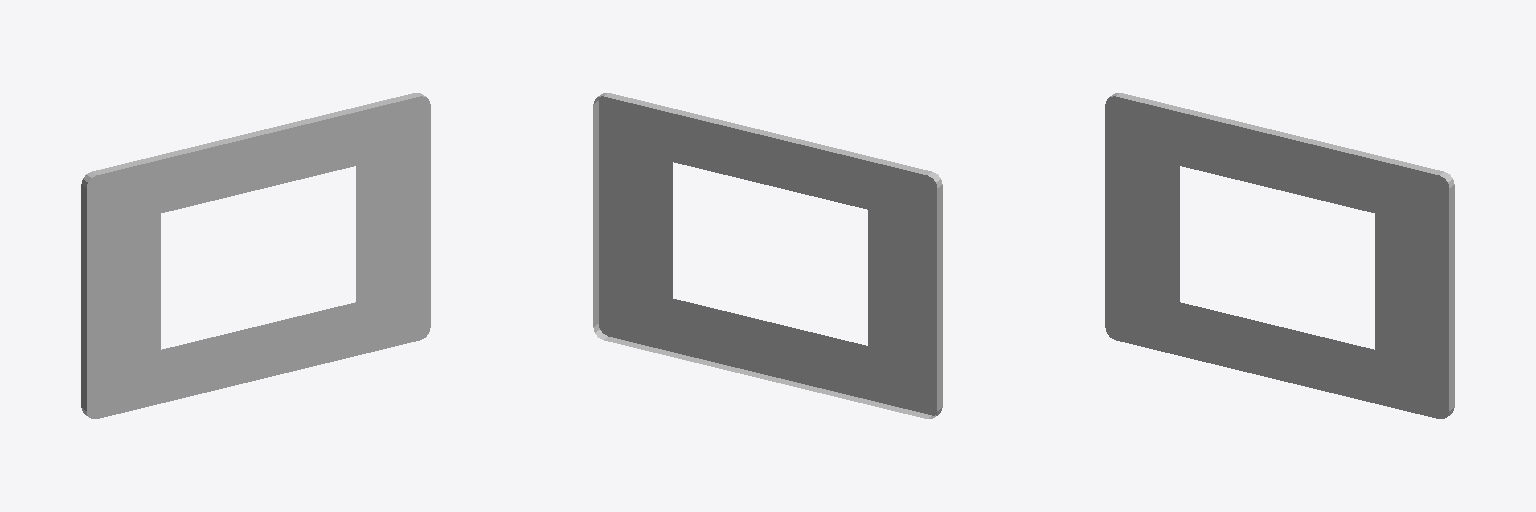
Rendered from original-3.obj.
3 renders of one model, left to right at view 1: azimuth 30°, elevation 25°; view 2: azimuth 150°, elevation 25°; view 3: azimuth 330°, elevation 25°, orthographic.
Parts seen in each view (by area): view 1: #ID13; view 2: #ID13; view 3: #ID13.
Boxes of the visible parts, x1,y1,x2,y2 form: #ID13: [81, 93, 430, 418]; #ID13: [593, 93, 942, 418]; #ID13: [1105, 93, 1454, 418].
Bounding box in the file's own units: 1.65 × 1.12 × 0.0425.